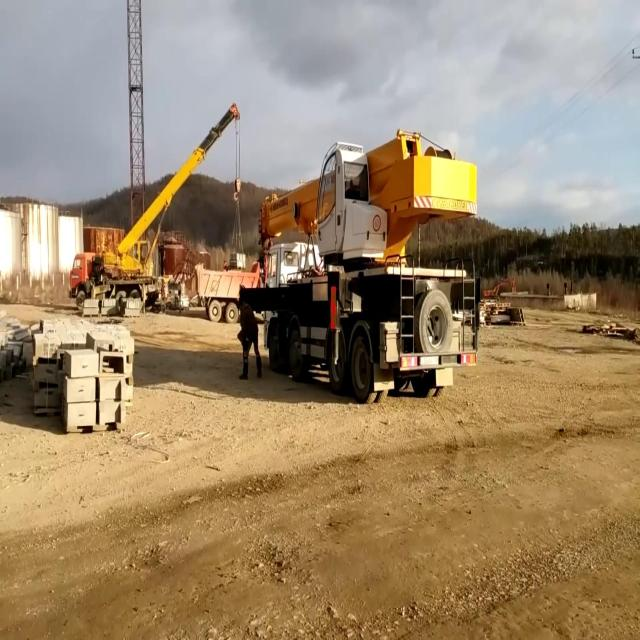crane: (240, 126, 481, 404), (68, 102, 243, 313)
